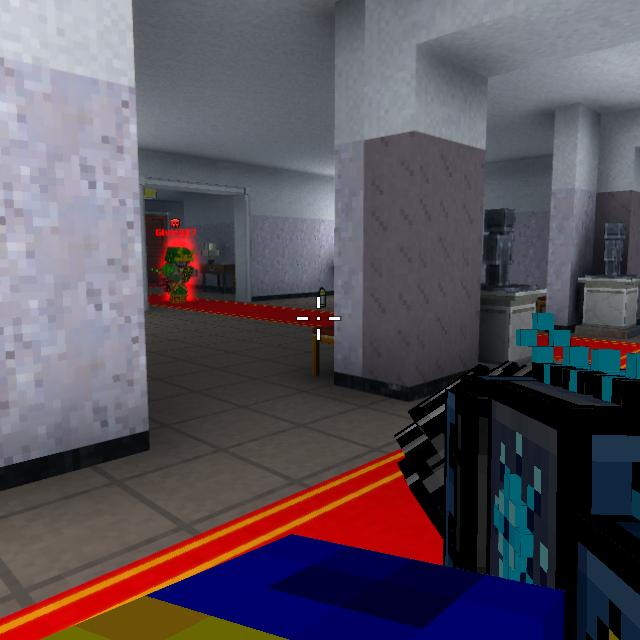Enemy: (162, 247, 198, 304)
